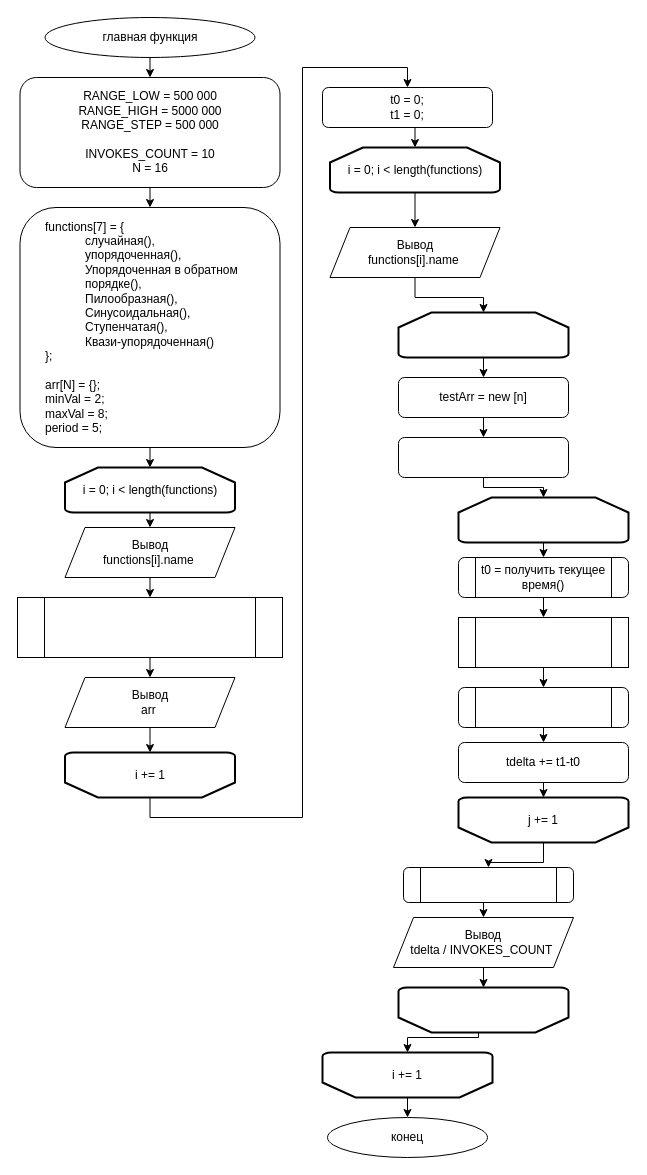
The diagram is 647 pixels wide and 1175 high, and some of its shapes have lost their labels. The centre of each missing label's shape, as x and y in pixels:
"delete testArr" belongs at (488,884).
"j = 0; j < INVOKES_COUNT" belongs at (543,519).
"n += RANGE_STEP;" belongs at (483,1009).
"n = RANGE_LOW; n <= RANGE_HIGH" belongs at (483,334).
"t1 = получить текущее время()" belongs at (543,707).
"tdelta = 0" belongs at (483,457).
"Вызов functions[i] (arr, N, minVal, maxVal, period)" belongs at (149,627).
"Вызов functions[i] (testArr, n, minVal, maxVal, period)" belongs at (543,642).
